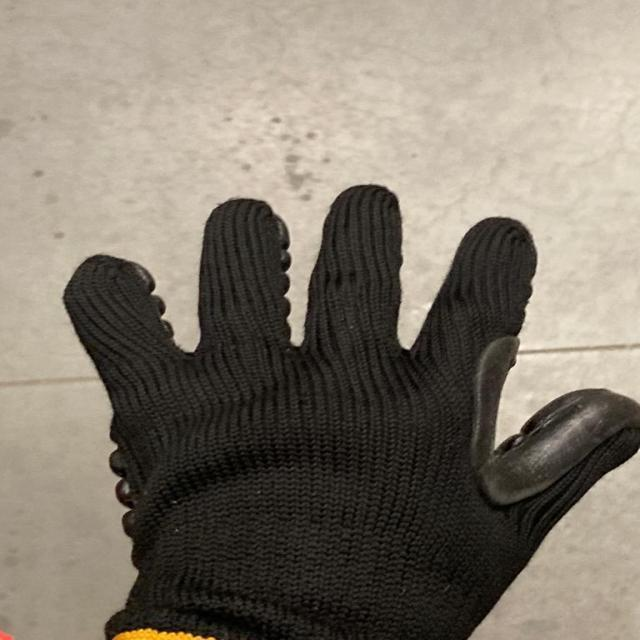gloves: (57, 177, 640, 640)
